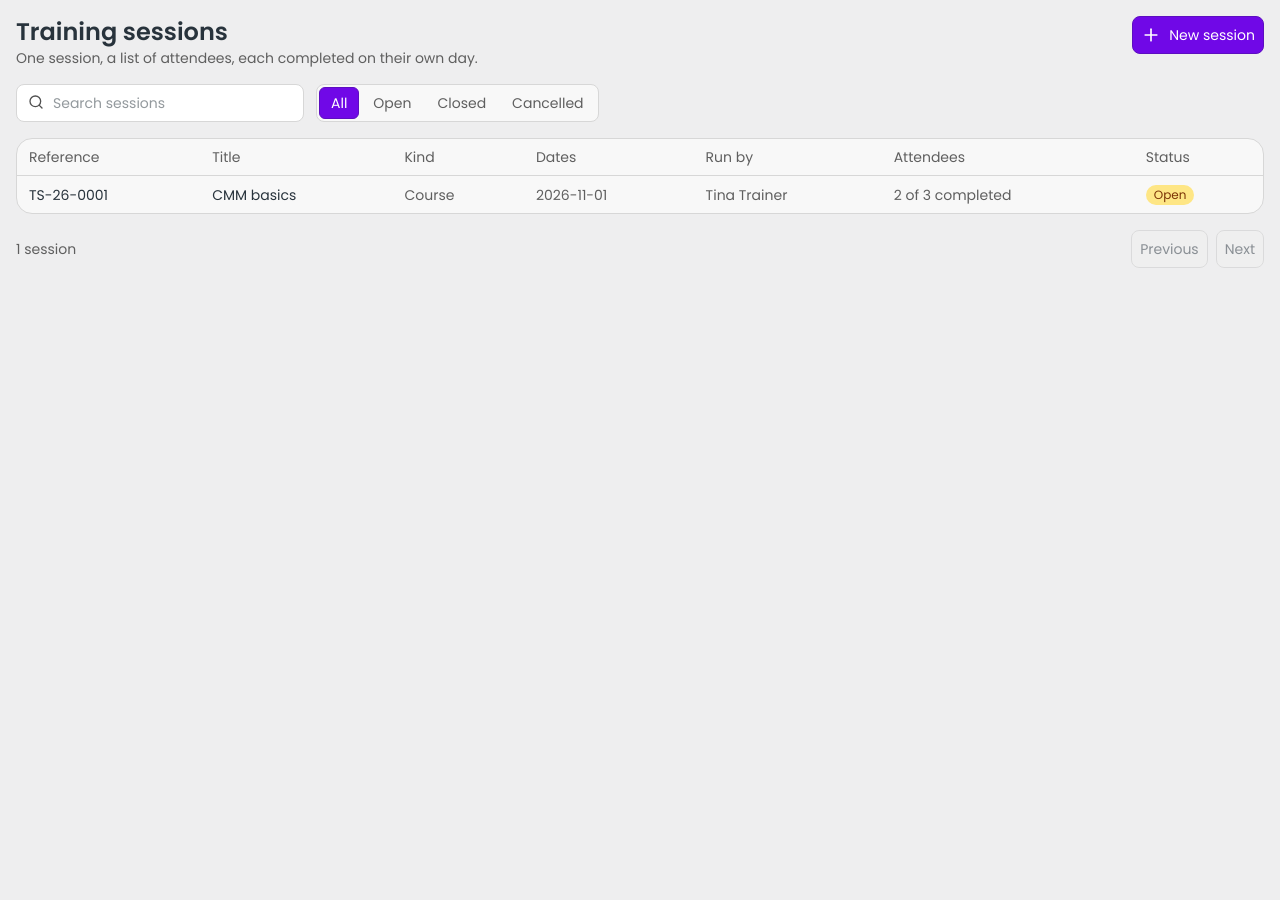
training register › asks for a trainer when the session is run internally
The width and height of the screenshot is (1280, 900).
What coordinates should you click on to do the following:
click the button "New session"
I would click on:
 (1198, 35)
Its box is [1132,16,1264,54].
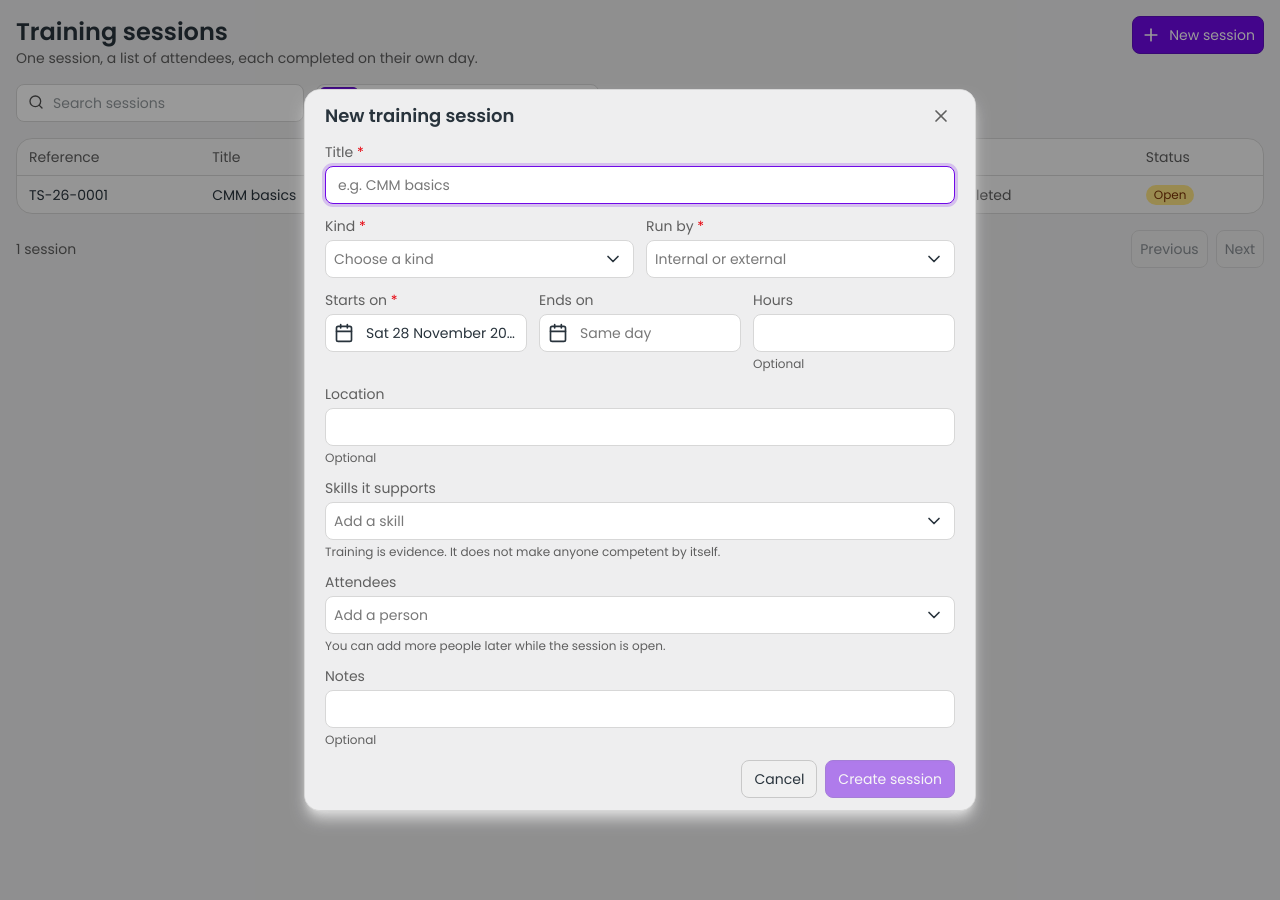
What coordinates should you click on to do the following:
click the dropdown labelled "Run by"
I would click on:
 (782, 259)
Its box is [655,248,910,270].
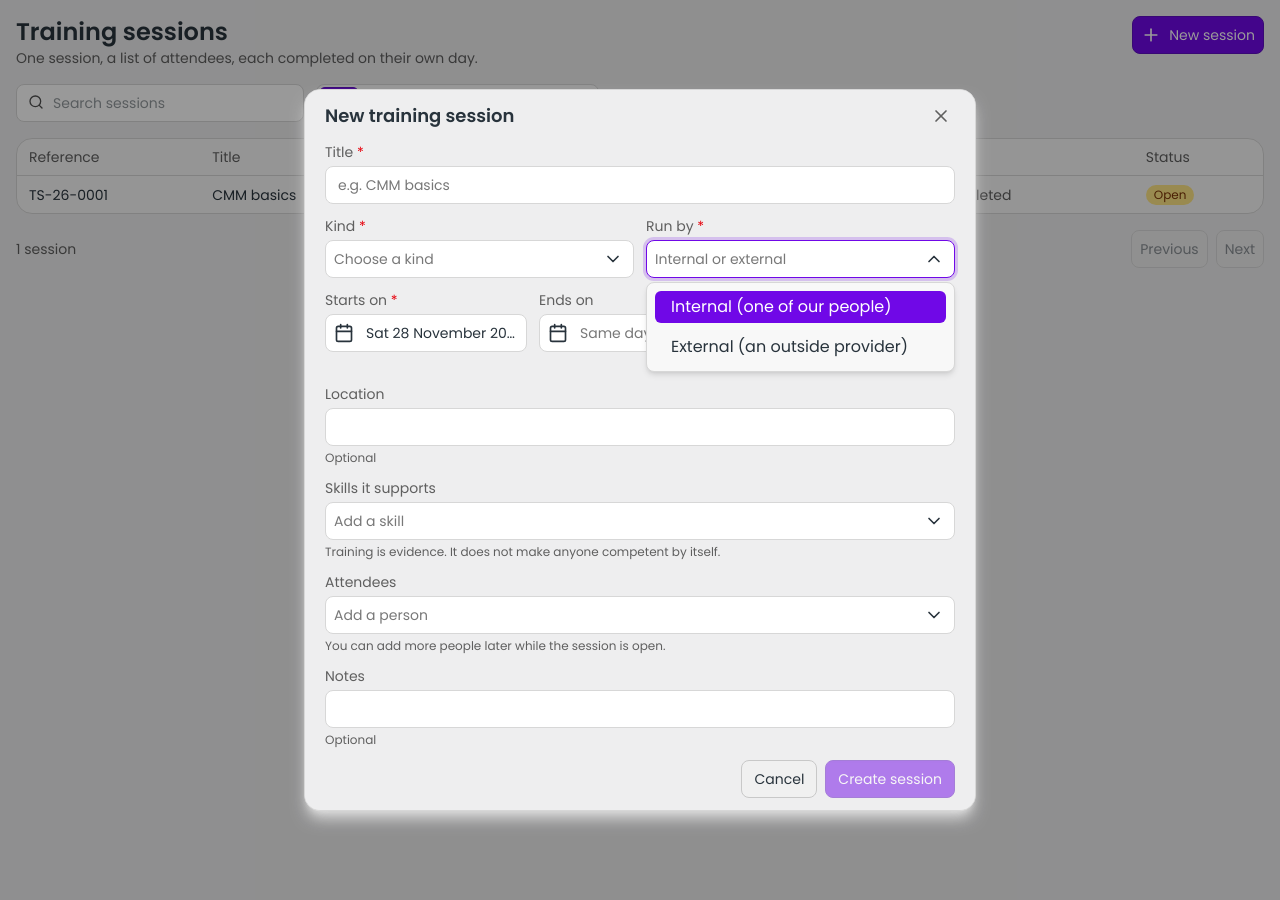
What coordinates should you click on to do the following:
click the option "Internal (one of our people)"
I would click on:
 (800, 307)
Its box is [647,287,954,327].
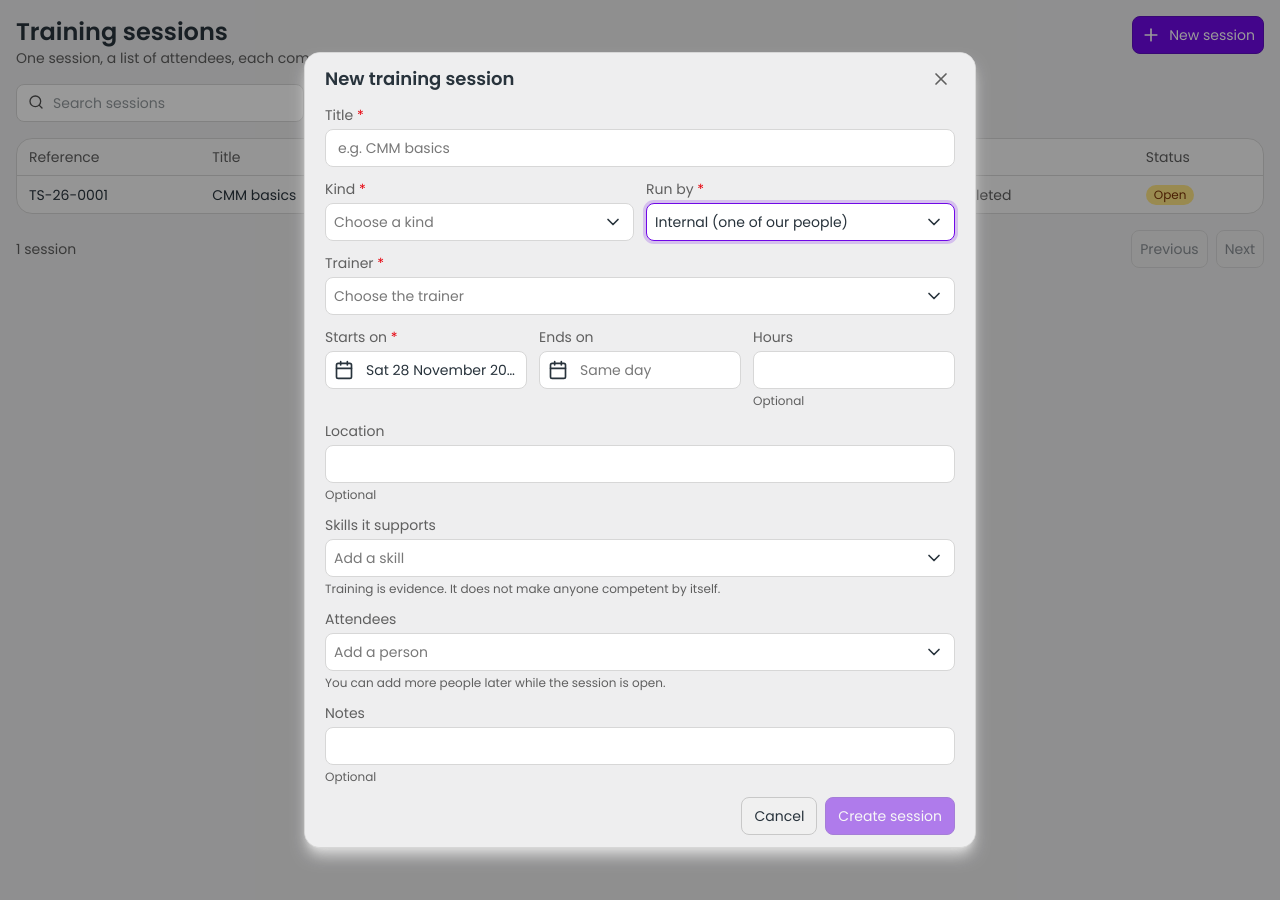
Expected: the dropdown labelled "Trainer" is shown, [334,286,910,306]
